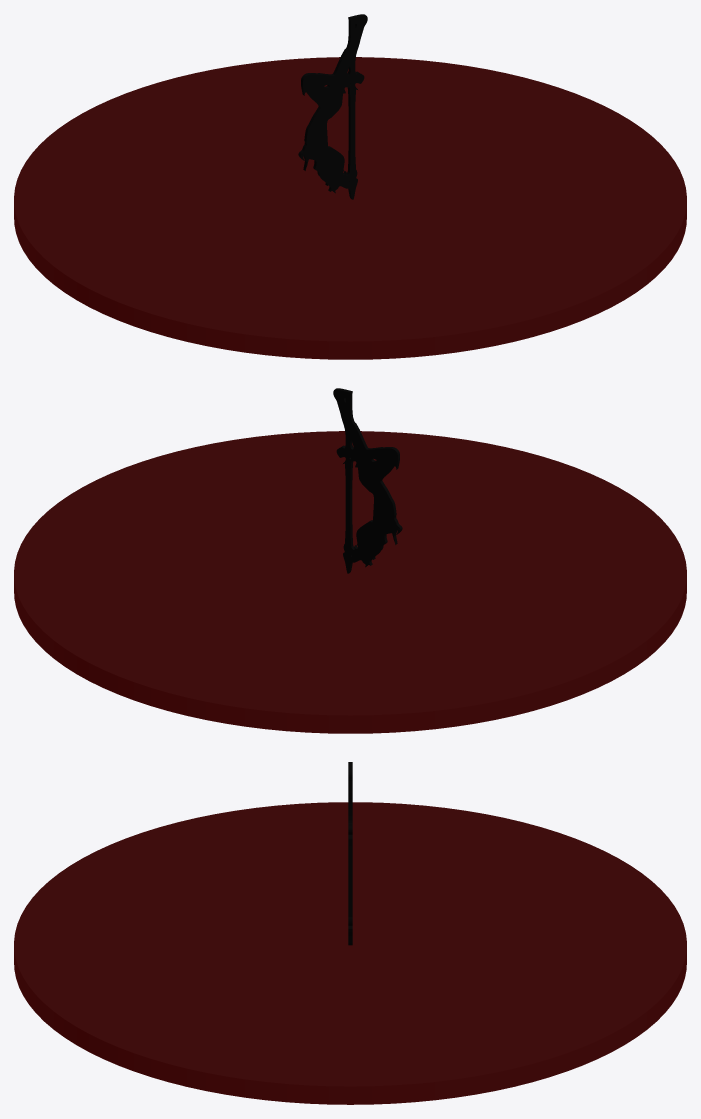
The picture shows the model from 3 angles, top to bottom: view 1: azimuth 30°, elevation 25°; view 2: azimuth 150°, elevation 25°; view 3: azimuth 270°, elevation 25°; orthographic projection.
Size of the model in its own units: 0.9999 by 0.3278 by 1.
